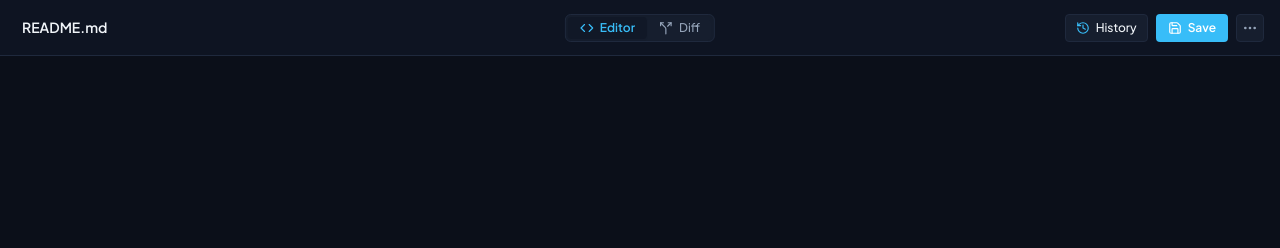
Test: EditorHeader Responsive & Prioritized Actions › disables Undo and Redo buttons in More actions dropdown when text is not modified
Click the button titled "More actions": (1250, 28) [1236, 14, 1264, 42]
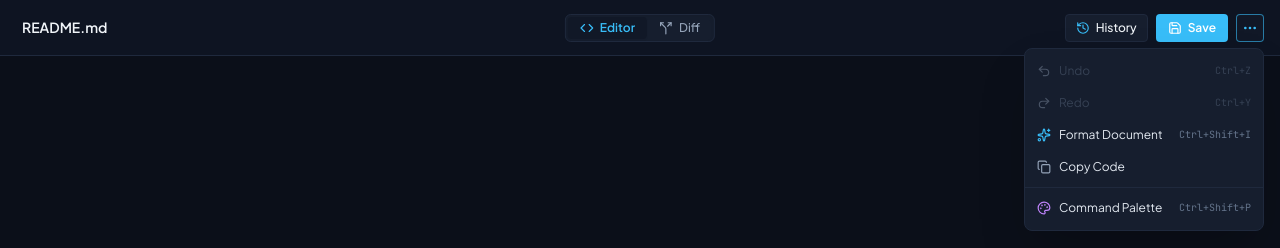
Expected: the button "Undo Ctrl+Z" is disabled, [1025, 54, 1263, 86]
Expected: the button "Redo Ctrl+Y" is disabled, [1025, 86, 1263, 118]
